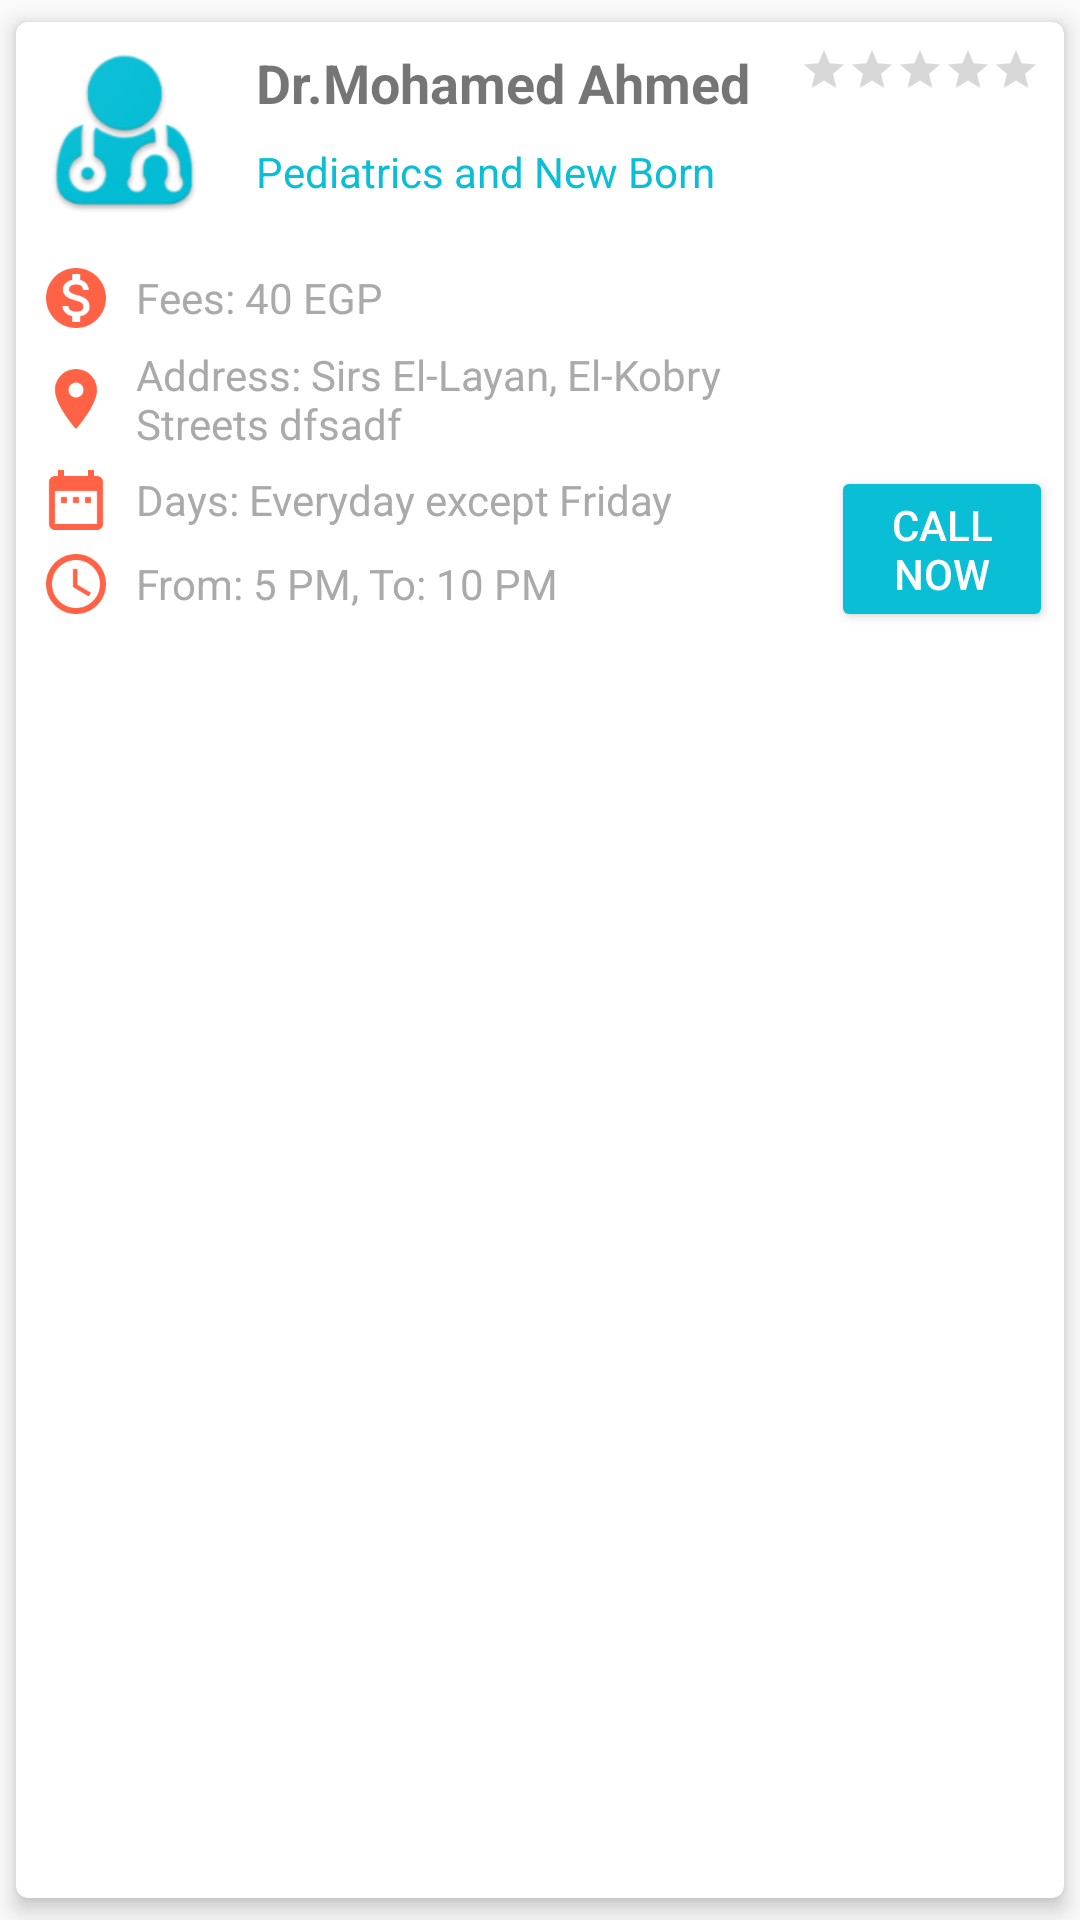

Point at icon controls on the screen. Image size 1080×1920, points as (x,y).
access time: (76,584)
doctor: (124,132)
location: (76,399)
